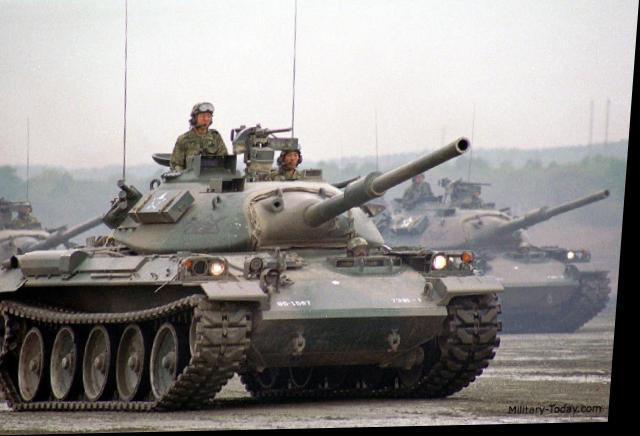other: (170, 101, 228, 161), (273, 145, 311, 181), (407, 168, 436, 209), (20, 197, 41, 229)
tank: (0, 144, 515, 404), (379, 173, 618, 333), (0, 196, 54, 315)
